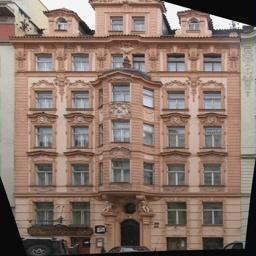building: (12, 0, 241, 235)
